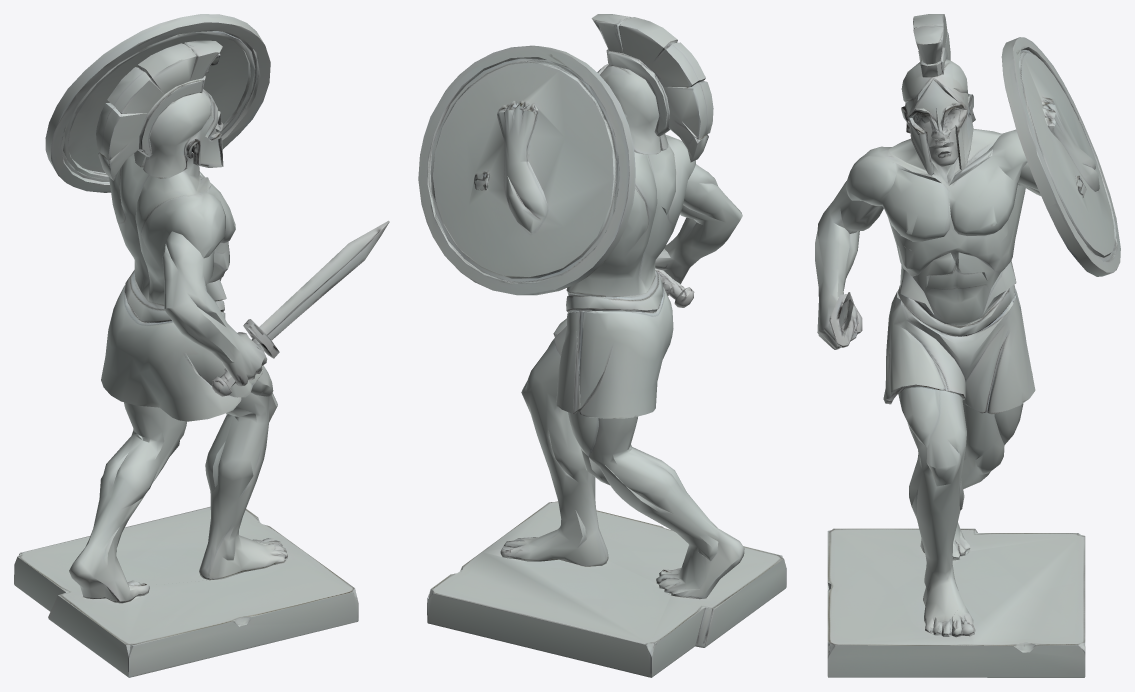
Rendered from statue_a.glb.
3 views of the same model, side by side, from view 1: azimuth 30°, elevation 25°; view 2: azimuth 150°, elevation 25°; view 3: azimuth 270°, elevation 25° (orthographic). The views are drawn at different scales.
Parts seen in each view (by area): view 1: statue_a; view 2: statue_a; view 3: statue_a.
Part boxes in pixels (bbox=[...]): statue_a: bbox=[14, 14, 389, 677]; statue_a: bbox=[418, 14, 786, 677]; statue_a: bbox=[815, 14, 1120, 677].
Size of the model in its own units: 1.33 by 2.6 by 1.22.
1 material, 1 textured.
